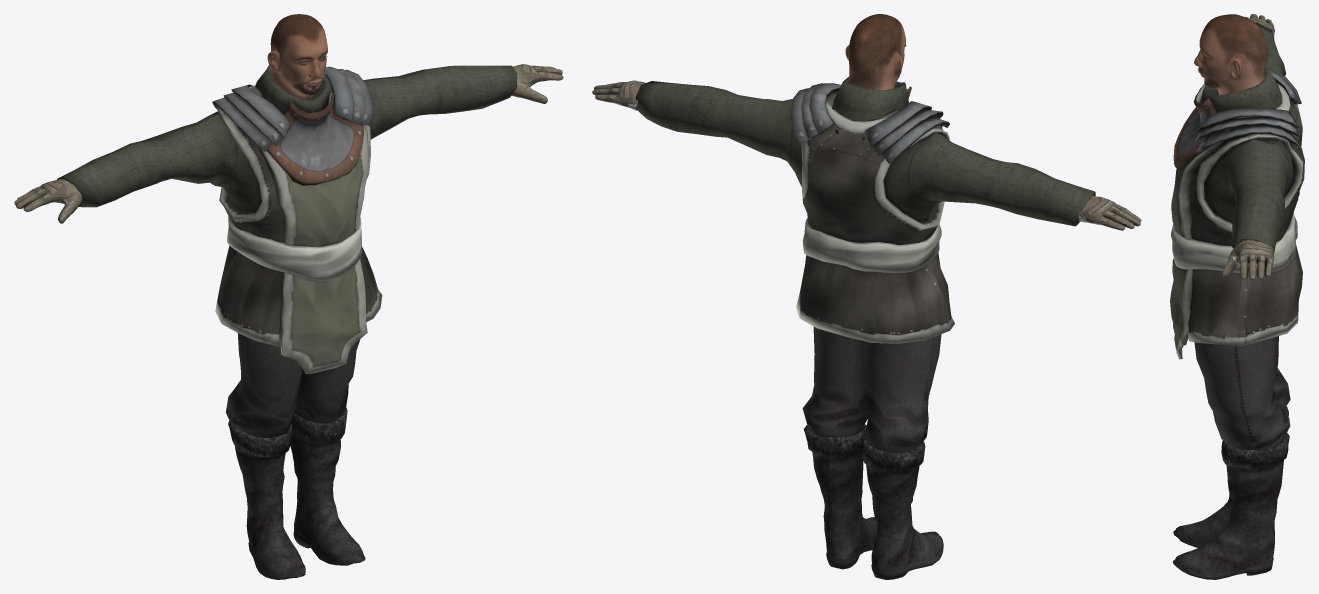
Rendered from knight.obj.
3 renders of one model, left to right at view 1: azimuth 30°, elevation 25°; view 2: azimuth 150°, elevation 25°; view 3: azimuth 270°, elevation 25°, orthographic.
Visible parts, largest first — view 1: Tops, Shoes, Bottoms, Body, Gloves; view 2: Tops, Shoes, Bottoms, Body, Gloves; view 3: Tops, Shoes, Bottoms, Body, Gloves.
Boxes of the visible parts, box(x1,y1,x2,y2) form: Tops: box(57, 65, 516, 374); Shoes: box(228, 407, 365, 579); Bottoms: box(226, 333, 360, 438); Body: box(267, 14, 327, 100); Gloves: box(14, 64, 563, 223); Tops: box(635, 76, 1095, 343); Shoes: box(803, 424, 943, 579); Bottoms: box(802, 327, 941, 452); Body: box(845, 14, 905, 89); Gloves: box(592, 80, 1141, 230); Tops: box(1170, 22, 1304, 359); Shoes: box(1173, 406, 1289, 579); Bottoms: box(1194, 336, 1290, 449); Body: box(1194, 14, 1268, 95); Gloves: box(1222, 14, 1274, 280).
Bounding box in the file's own units: 194 × 184 × 41.58.
Materials: 5 (5 with a texture image).
